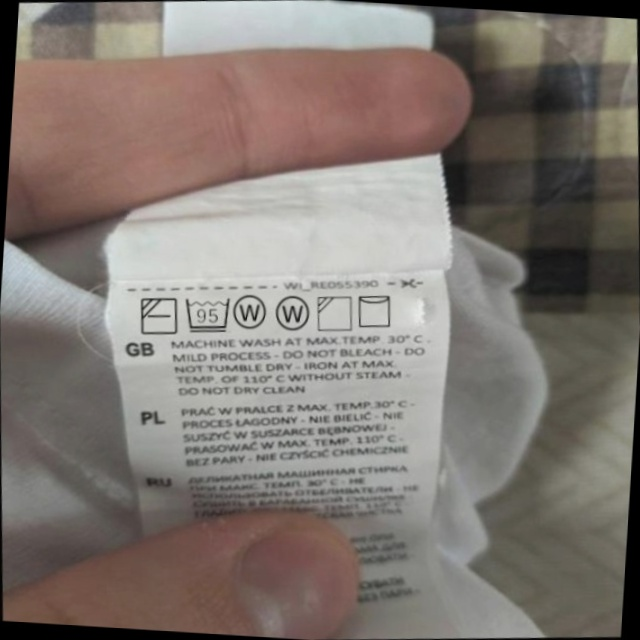95C: (181, 292, 235, 336)
dry_flat_in_shade: (136, 292, 181, 339)
line_dry: (353, 289, 397, 332)
shade_dry: (313, 291, 357, 335)
wet_clean: (272, 292, 314, 336), (231, 288, 272, 333)
